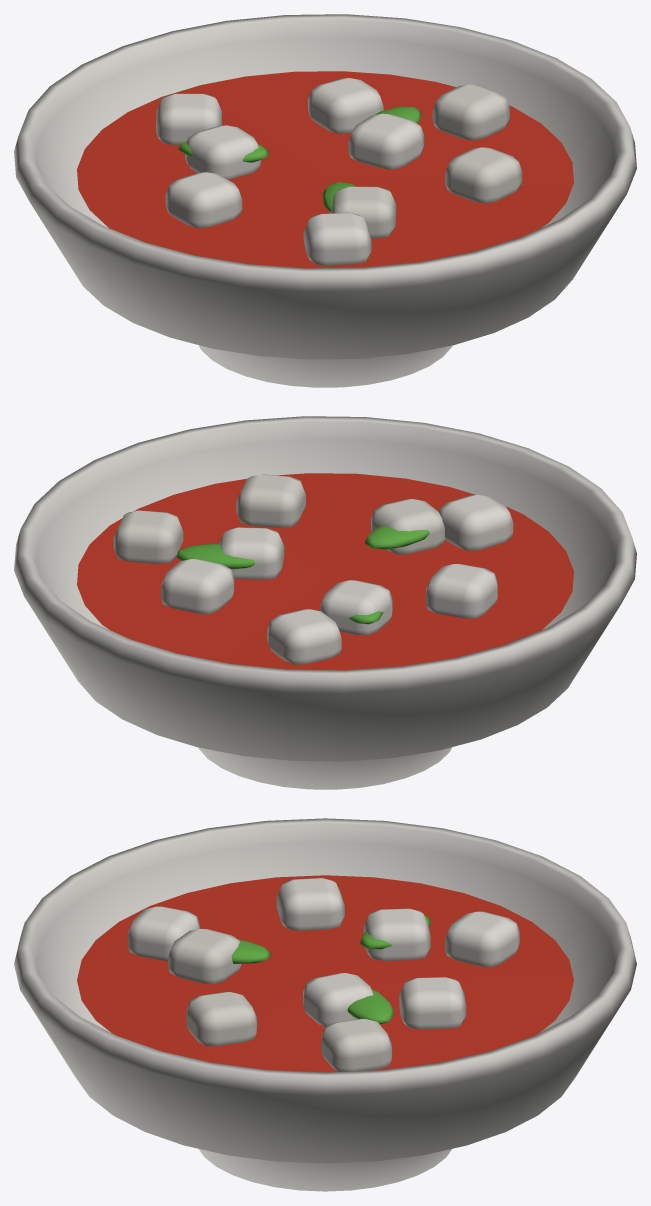
File: item_dish_mapo_tofu.glb
The picture shows the model from 3 angles, top to bottom: view 1: azimuth 30°, elevation 25°; view 2: azimuth 150°, elevation 25°; view 3: azimuth 270°, elevation 25°; orthographic projection.
Visible parts, largest first — view 1: item_dish_mapo_tofu_main; view 2: item_dish_mapo_tofu_main; view 3: item_dish_mapo_tofu_main.
Part boxes in pixels (left/top/right/bottom): item_dish_mapo_tofu_main: left=14, top=14, right=636, bottom=387; item_dish_mapo_tofu_main: left=14, top=416, right=636, bottom=789; item_dish_mapo_tofu_main: left=14, top=818, right=636, bottom=1191.
Size of the model in its own units: 0.21 by 0.07 by 0.21.
